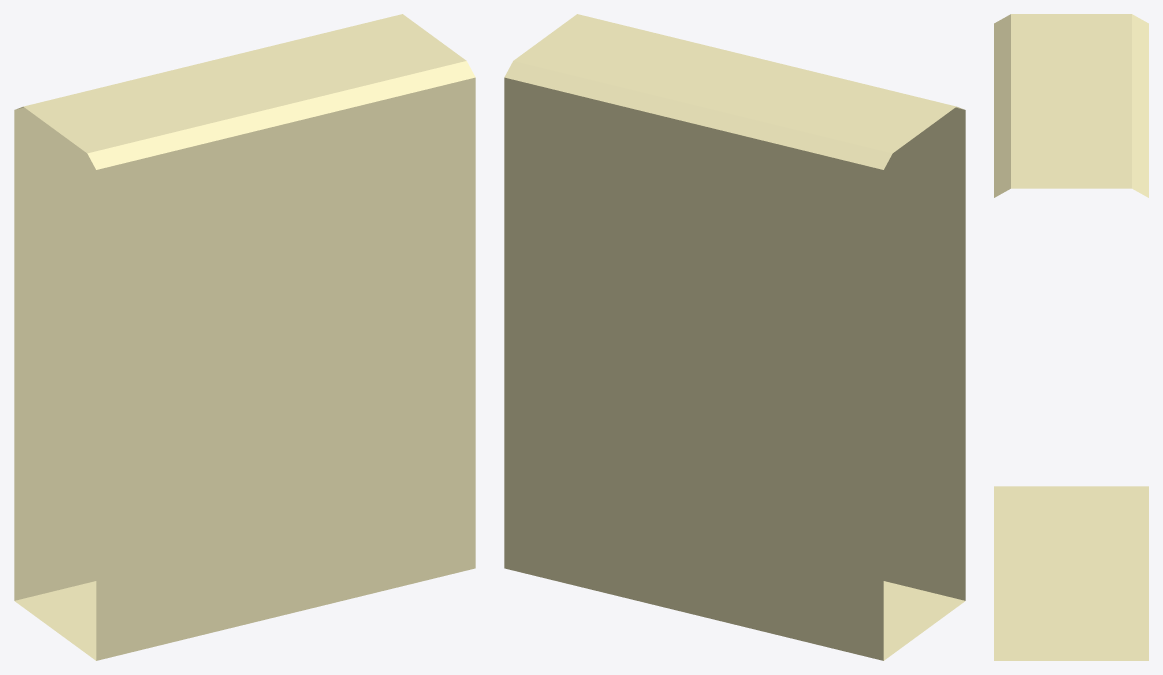
The model's file is Itr_Couch_Outside_Back_Middle_02.FBX.
The picture shows the model from 3 angles, left to right: view 1: azimuth 30°, elevation 25°; view 2: azimuth 150°, elevation 25°; view 3: azimuth 270°, elevation 25°; orthographic projection. The views are drawn at different scales.
Parts seen in each view (by area): view 1: Itr_Couch_Outside_Back_Middle_02; view 2: Itr_Couch_Outside_Back_Middle_02; view 3: Itr_Couch_Outside_Back_Middle_02.
Part boxes in pixels (x1,y1,x2,y2): Itr_Couch_Outside_Back_Middle_02: [14, 14, 475, 660]; Itr_Couch_Outside_Back_Middle_02: [504, 14, 965, 660]; Itr_Couch_Outside_Back_Middle_02: [994, 14, 1148, 660].
Size of the model in its own units: 19.21 by 24.24 by 7.19.
